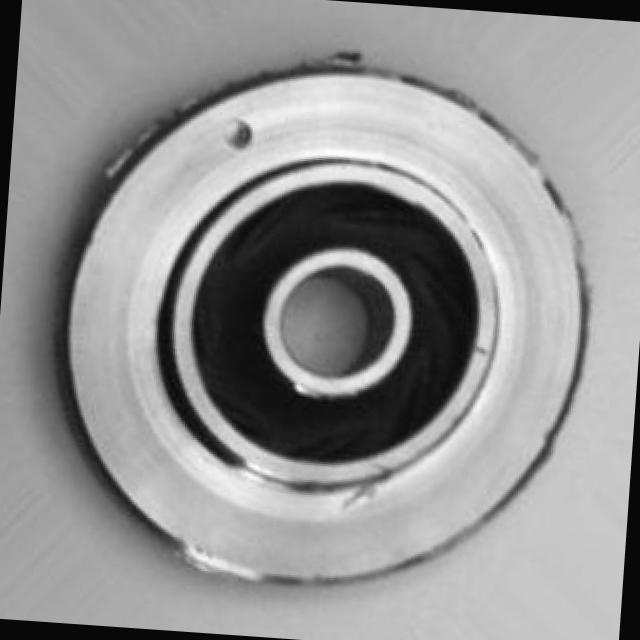Defect: (210, 106, 276, 162)
